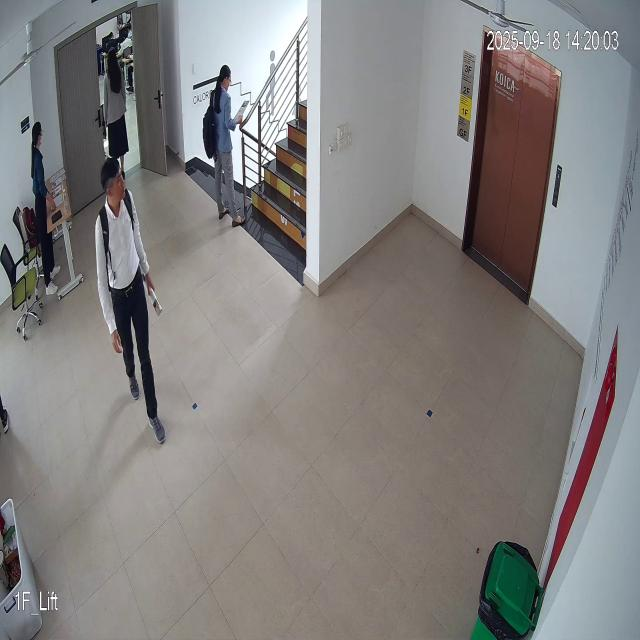face: (99, 152, 130, 208)
